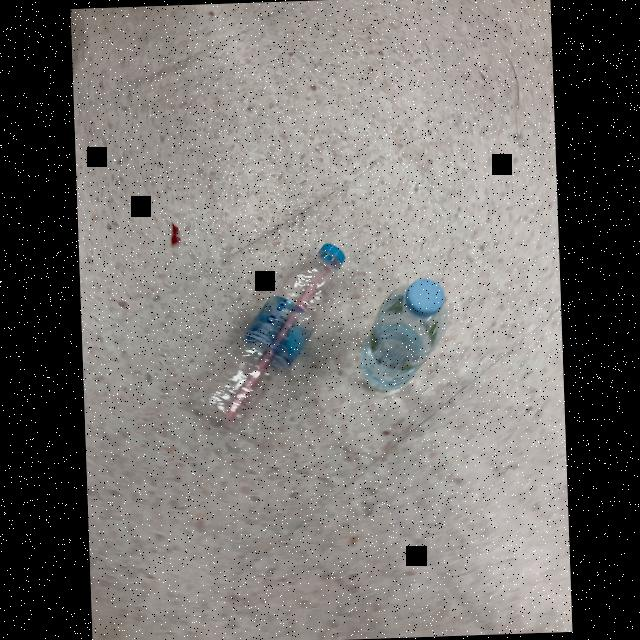plastic_bottle: (184, 242, 352, 434), (355, 279, 450, 393)
plastic_bottle_cap: (401, 280, 444, 316), (316, 242, 348, 272)
